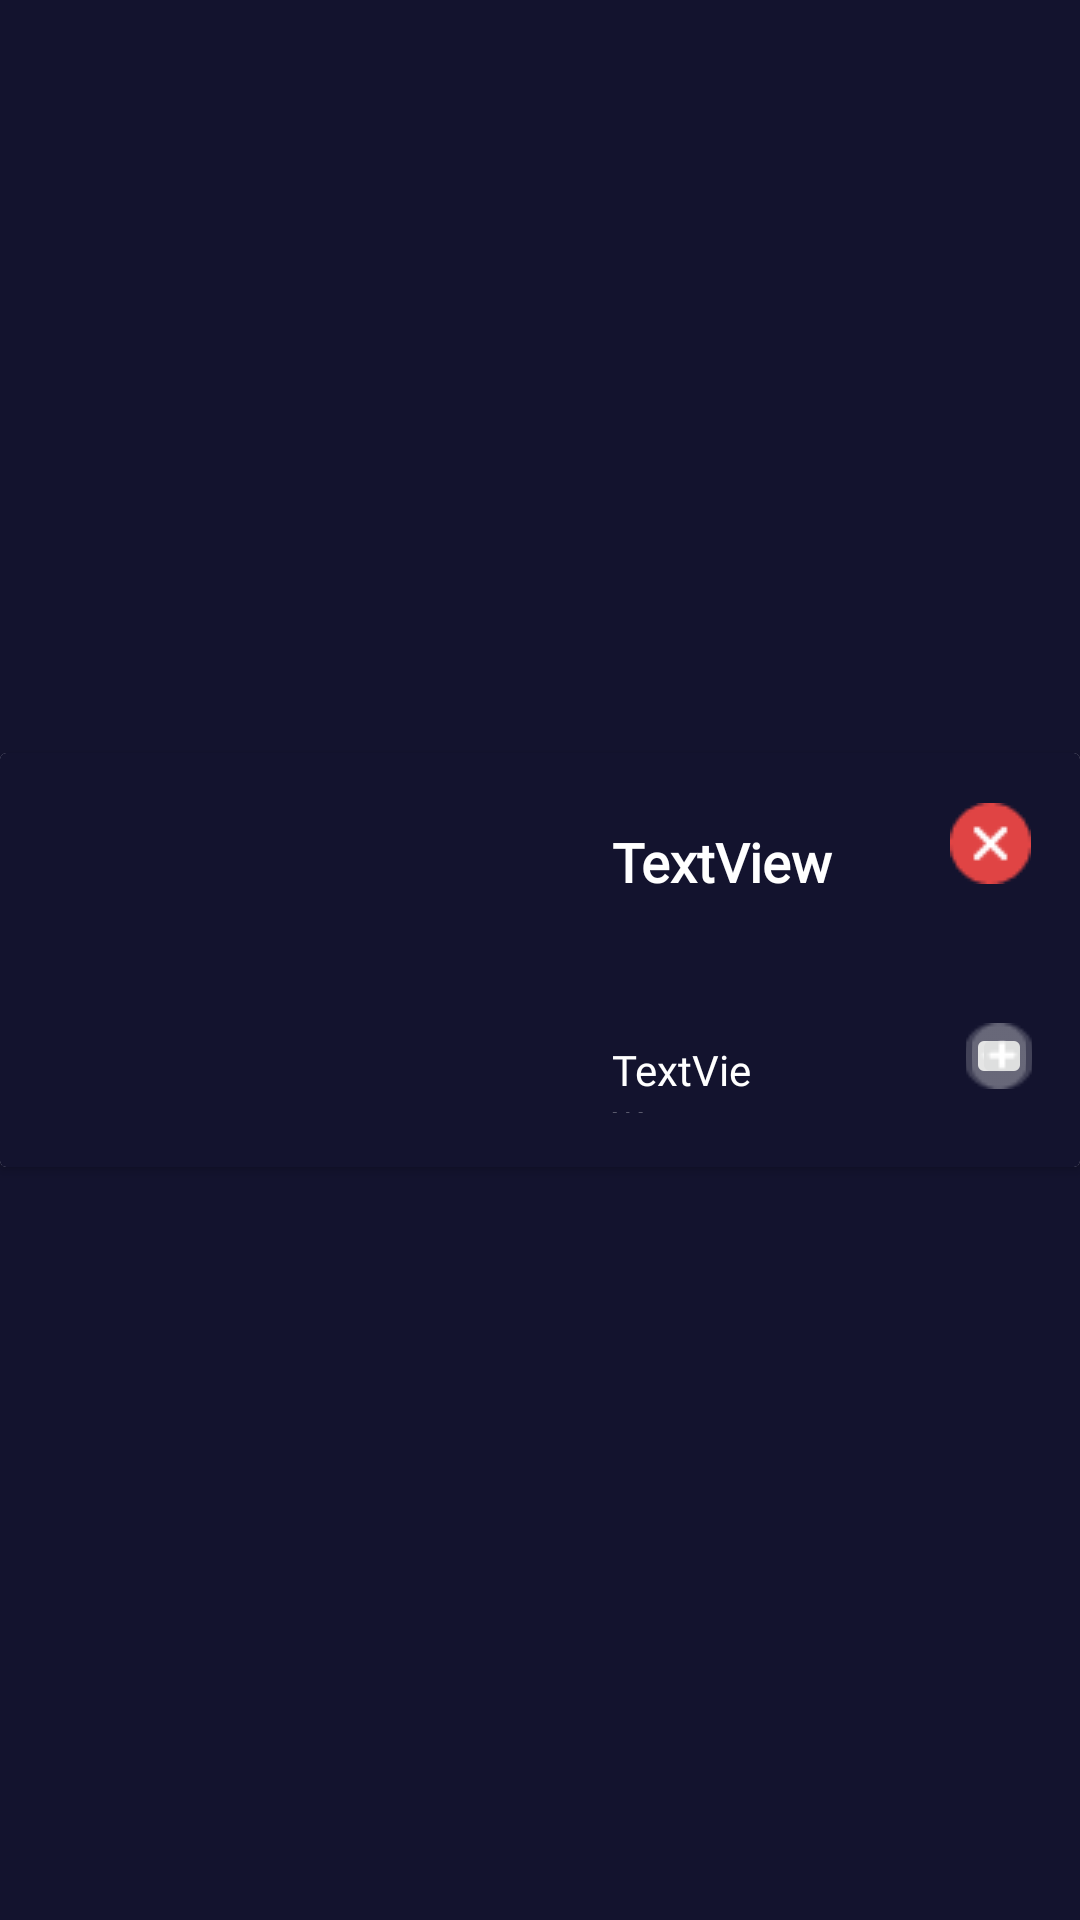

Locate icon controls on the screen. Image size 1080 × 1920, boxes as (x1, y1, x2, y2).
cartdeleteicon: (950, 803, 1031, 884)
